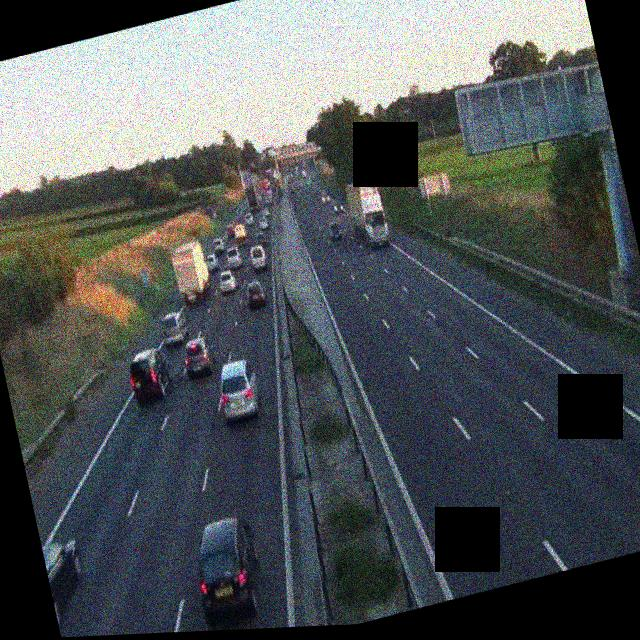car: (186, 512, 270, 628), (42, 536, 94, 636), (212, 354, 264, 424), (124, 344, 174, 403), (178, 330, 216, 378), (158, 310, 190, 348), (243, 278, 267, 310), (216, 266, 238, 294), (248, 245, 270, 273), (224, 248, 244, 272), (326, 218, 344, 243), (203, 252, 220, 272), (210, 236, 225, 257), (232, 221, 247, 242), (256, 212, 270, 231), (321, 191, 331, 204), (262, 191, 272, 204)
truck: (348, 174, 392, 249), (169, 236, 215, 304), (240, 180, 258, 208)
